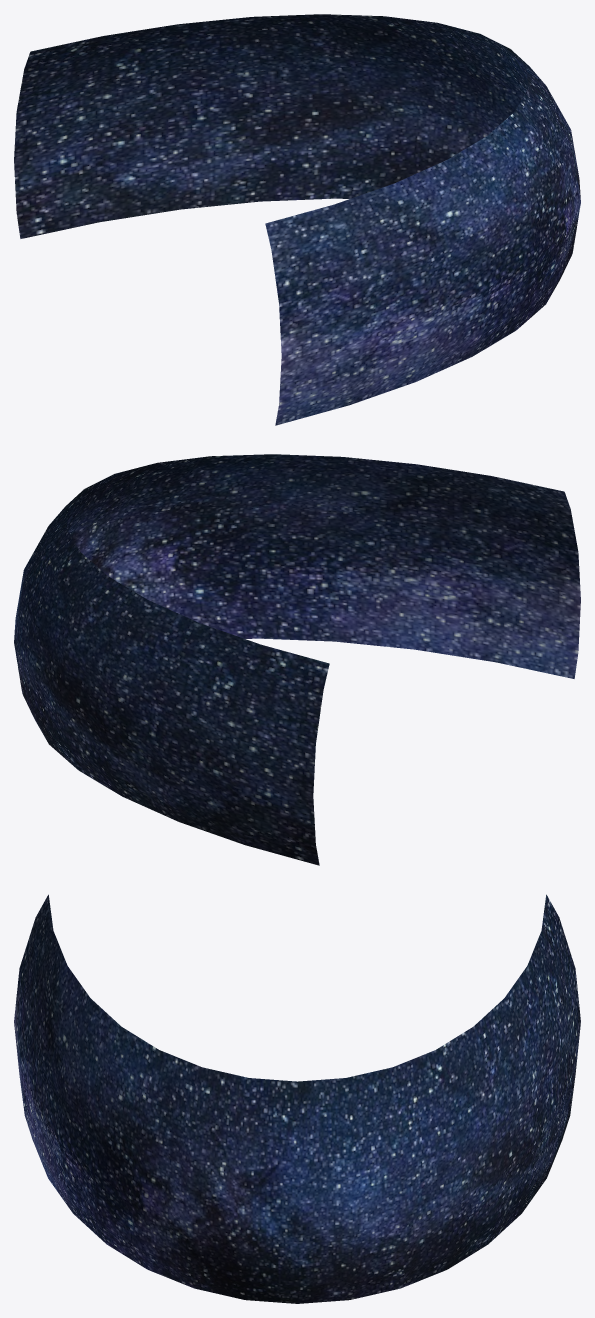
Rendered from background windows.fbx.
3 renders of one model, top to bottom at view 1: azimuth 30°, elevation 25°; view 2: azimuth 150°, elevation 25°; view 3: azimuth 270°, elevation 25°, orthographic. The views are drawn at different scales.
Parts seen in each view (by area): view 1: Sphere; view 2: Sphere; view 3: Sphere.
Boxes of the visible parts, x1,y1,x2,y2 form: Sphere: (14,14,580,425); Sphere: (14,454,580,865); Sphere: (14,894,580,1303).
Size of the model in its own units: 366 by 165 by 411.
1 material, 1 textured.
